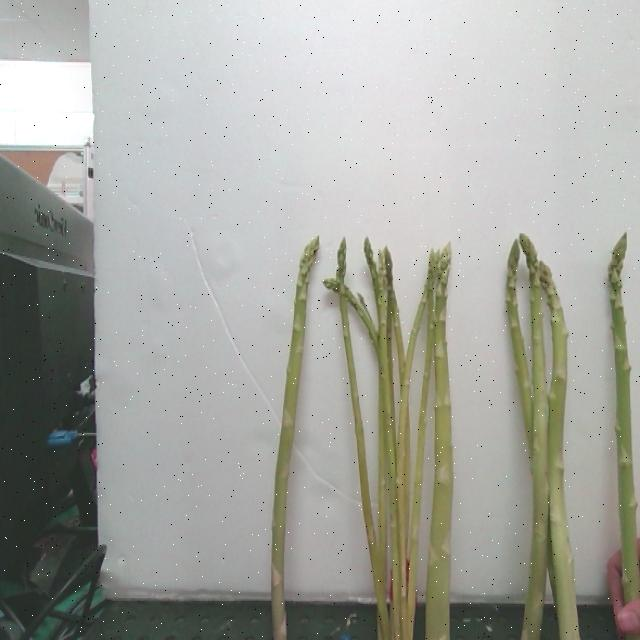aspargus: (272, 239, 321, 640), (540, 258, 582, 640), (606, 236, 640, 603)
